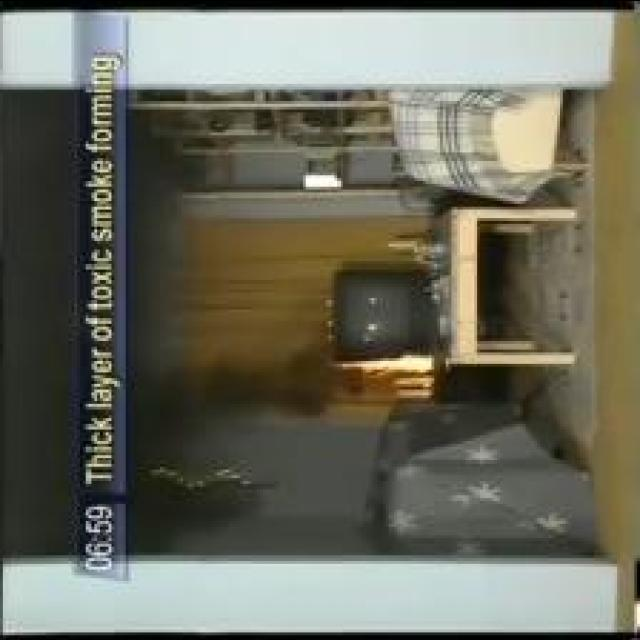Fire: (338, 354, 432, 372)
